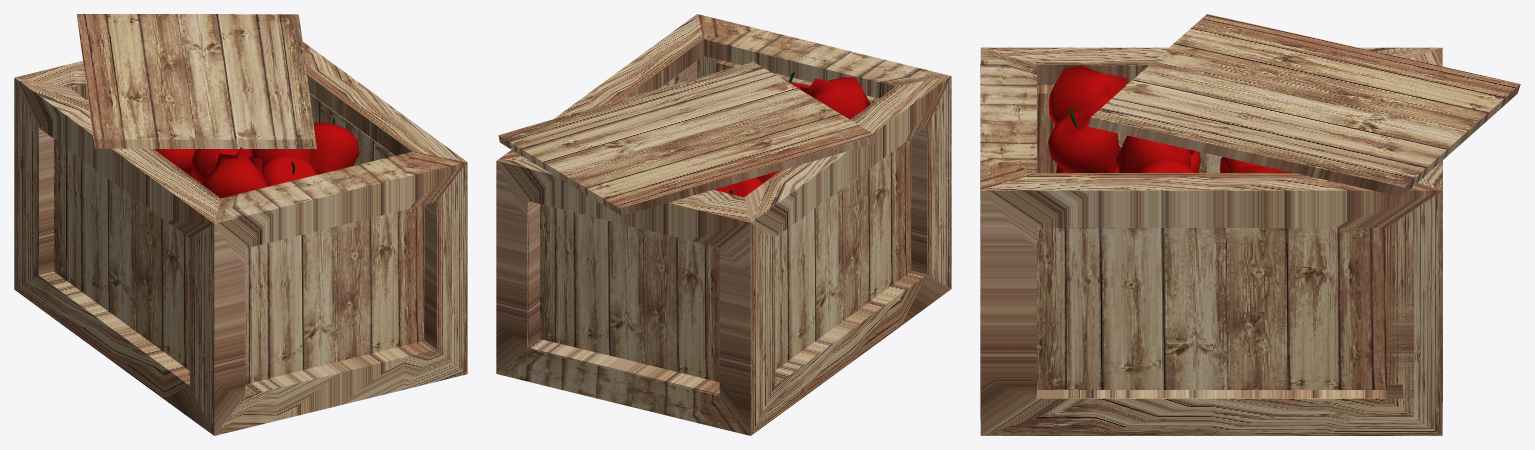
File: Caisse2.FBX
3 renders of one model, left to right at view 1: azimuth 30°, elevation 25°; view 2: azimuth 150°, elevation 25°; view 3: azimuth 270°, elevation 25°, orthographic. The views are drawn at different scales.
Parts seen in each view (by area): view 1: Sphère035; view 2: Sphère035; view 3: Sphère035.
Part boxes in pixels (<box>): Sphère035: <box>14,14,467,435</box>; Sphère035: <box>496,14,951,435</box>; Sphère035: <box>980,14,1520,435</box>.
Size of the model in its own units: 22.64 by 17.16 by 31.55.
